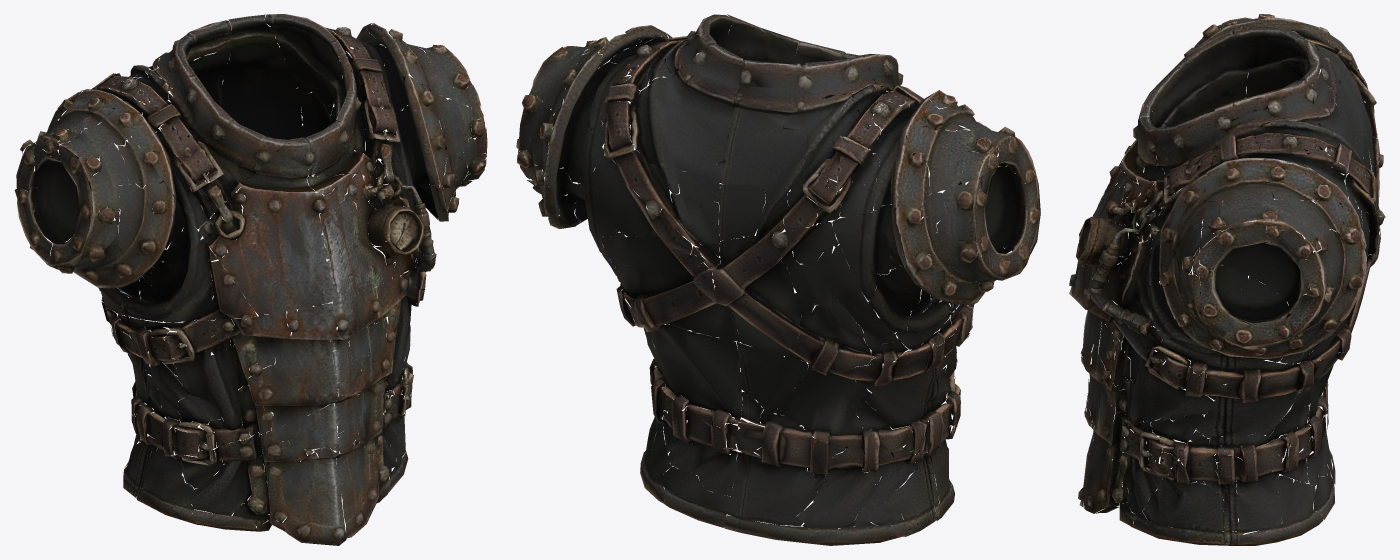
Rendered from a_sluice_cuirass.glb.
The picture shows the model from 3 angles, left to right: view 1: azimuth 30°, elevation 25°; view 2: azimuth 150°, elevation 25°; view 3: azimuth 270°, elevation 25°; orthographic projection. The views are drawn at different scales.
Visible parts, largest first — view 1: tripo_node_2c596889-d8e8-4e9b-8757-3bf3b76ae3bd; view 2: tripo_node_2c596889-d8e8-4e9b-8757-3bf3b76ae3bd; view 3: tripo_node_2c596889-d8e8-4e9b-8757-3bf3b76ae3bd.
Boxes of the visible parts, bbox=[...] form: tripo_node_2c596889-d8e8-4e9b-8757-3bf3b76ae3bd: bbox=[14, 14, 487, 545]; tripo_node_2c596889-d8e8-4e9b-8757-3bf3b76ae3bd: bbox=[516, 14, 1040, 545]; tripo_node_2c596889-d8e8-4e9b-8757-3bf3b76ae3bd: bbox=[1069, 14, 1385, 545].
Bounding box in the file's own units: 0.5039 × 0.5 × 0.3213.
1 material, 1 textured.
